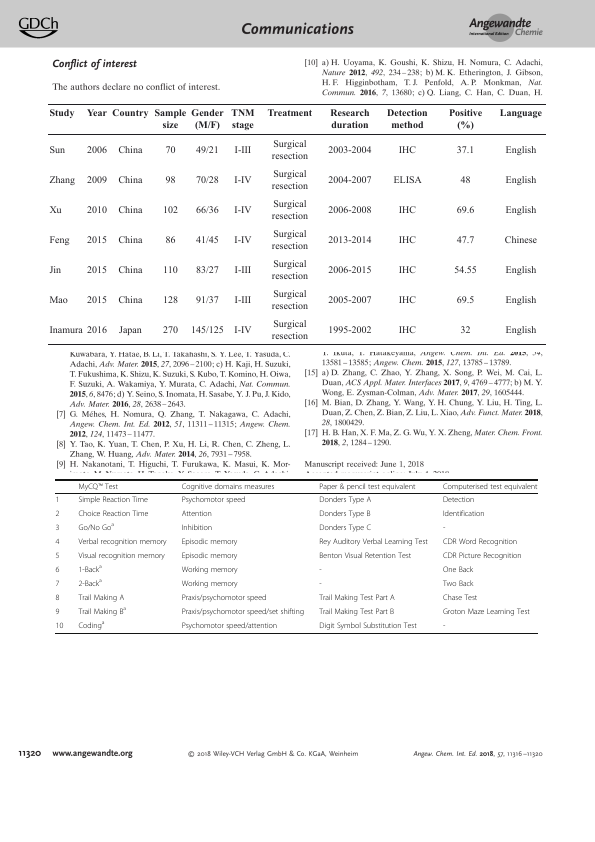borderless: (47, 103, 546, 344), (55, 478, 538, 633)
cell: (181, 607, 305, 617), (318, 537, 429, 547), (318, 621, 418, 631), (181, 621, 278, 631), (386, 109, 428, 132), (329, 109, 370, 132), (318, 551, 412, 561), (270, 169, 309, 193), (77, 537, 167, 547), (270, 140, 309, 163), (270, 199, 309, 222), (270, 229, 309, 252), (270, 259, 309, 282), (270, 289, 309, 312), (270, 319, 309, 342), (77, 551, 166, 561), (442, 607, 531, 617), (318, 482, 416, 491), (442, 482, 538, 491), (181, 593, 267, 603), (181, 482, 275, 491), (442, 551, 523, 561), (448, 109, 483, 132), (153, 109, 187, 132), (190, 109, 224, 132), (318, 593, 396, 603), (318, 607, 395, 617), (442, 537, 518, 547), (77, 495, 149, 505), (77, 509, 149, 519), (181, 495, 246, 505), (77, 605, 127, 617), (181, 565, 239, 575), (181, 579, 239, 589), (230, 109, 255, 132), (181, 537, 238, 547), (181, 551, 238, 561), (327, 175, 372, 187), (318, 495, 372, 505), (318, 523, 372, 533), (318, 509, 371, 519), (266, 109, 313, 120), (498, 109, 543, 120), (327, 146, 372, 157), (327, 205, 372, 216), (327, 235, 372, 246), (327, 265, 372, 276), (327, 295, 372, 306), (327, 325, 372, 336), (77, 593, 125, 603), (77, 521, 115, 533), (442, 509, 485, 519), (111, 109, 149, 120), (504, 175, 537, 187), (503, 235, 538, 246), (48, 325, 83, 336), (77, 482, 119, 491), (190, 325, 224, 336), (504, 146, 537, 157), (504, 205, 537, 216), (504, 265, 537, 276), (504, 295, 537, 306), (504, 325, 537, 336), (392, 175, 422, 187), (442, 593, 478, 603), (48, 175, 76, 187), (77, 619, 105, 631), (442, 495, 475, 505), (181, 509, 213, 519), (181, 523, 213, 533), (442, 565, 474, 575), (442, 579, 474, 589), (117, 175, 143, 187), (77, 563, 103, 575), (77, 577, 103, 589), (48, 109, 75, 120), (195, 175, 219, 187), (117, 146, 143, 157), (117, 205, 143, 216), (117, 235, 143, 246), (117, 265, 143, 276), (117, 295, 143, 306), (195, 146, 219, 157), (86, 175, 108, 187), (195, 205, 219, 216), (195, 235, 219, 246), (195, 265, 219, 276), (453, 265, 477, 276), (195, 295, 219, 306), (118, 325, 142, 336), (86, 109, 108, 120), (85, 146, 107, 157), (85, 205, 107, 216), (48, 235, 70, 246), (86, 235, 108, 246), (86, 265, 108, 276), (86, 295, 108, 306), (86, 325, 108, 336), (233, 175, 252, 187), (397, 146, 417, 157), (455, 146, 475, 157), (397, 205, 417, 216), (455, 205, 475, 216), (397, 235, 417, 246), (455, 235, 475, 246), (397, 265, 417, 276), (48, 295, 68, 306), (397, 295, 417, 306), (455, 295, 475, 306), (397, 325, 417, 336), (233, 146, 252, 157), (233, 205, 252, 216), (233, 235, 252, 246), (233, 265, 252, 276), (233, 295, 252, 306), (233, 325, 252, 336), (48, 146, 66, 157), (162, 205, 179, 216), (162, 295, 179, 306), (162, 325, 179, 336), (162, 265, 178, 276), (48, 205, 62, 216), (48, 265, 62, 276), (164, 175, 176, 187), (459, 175, 471, 187), (164, 146, 176, 157), (164, 235, 176, 246), (459, 325, 471, 336), (55, 621, 64, 631), (54, 495, 60, 505), (54, 509, 60, 519), (54, 523, 60, 533), (55, 537, 60, 547), (55, 551, 60, 561), (55, 565, 60, 575), (318, 565, 323, 575), (55, 579, 60, 589), (318, 579, 323, 589), (55, 593, 60, 603), (55, 607, 60, 617), (442, 523, 446, 533), (442, 621, 446, 631)
